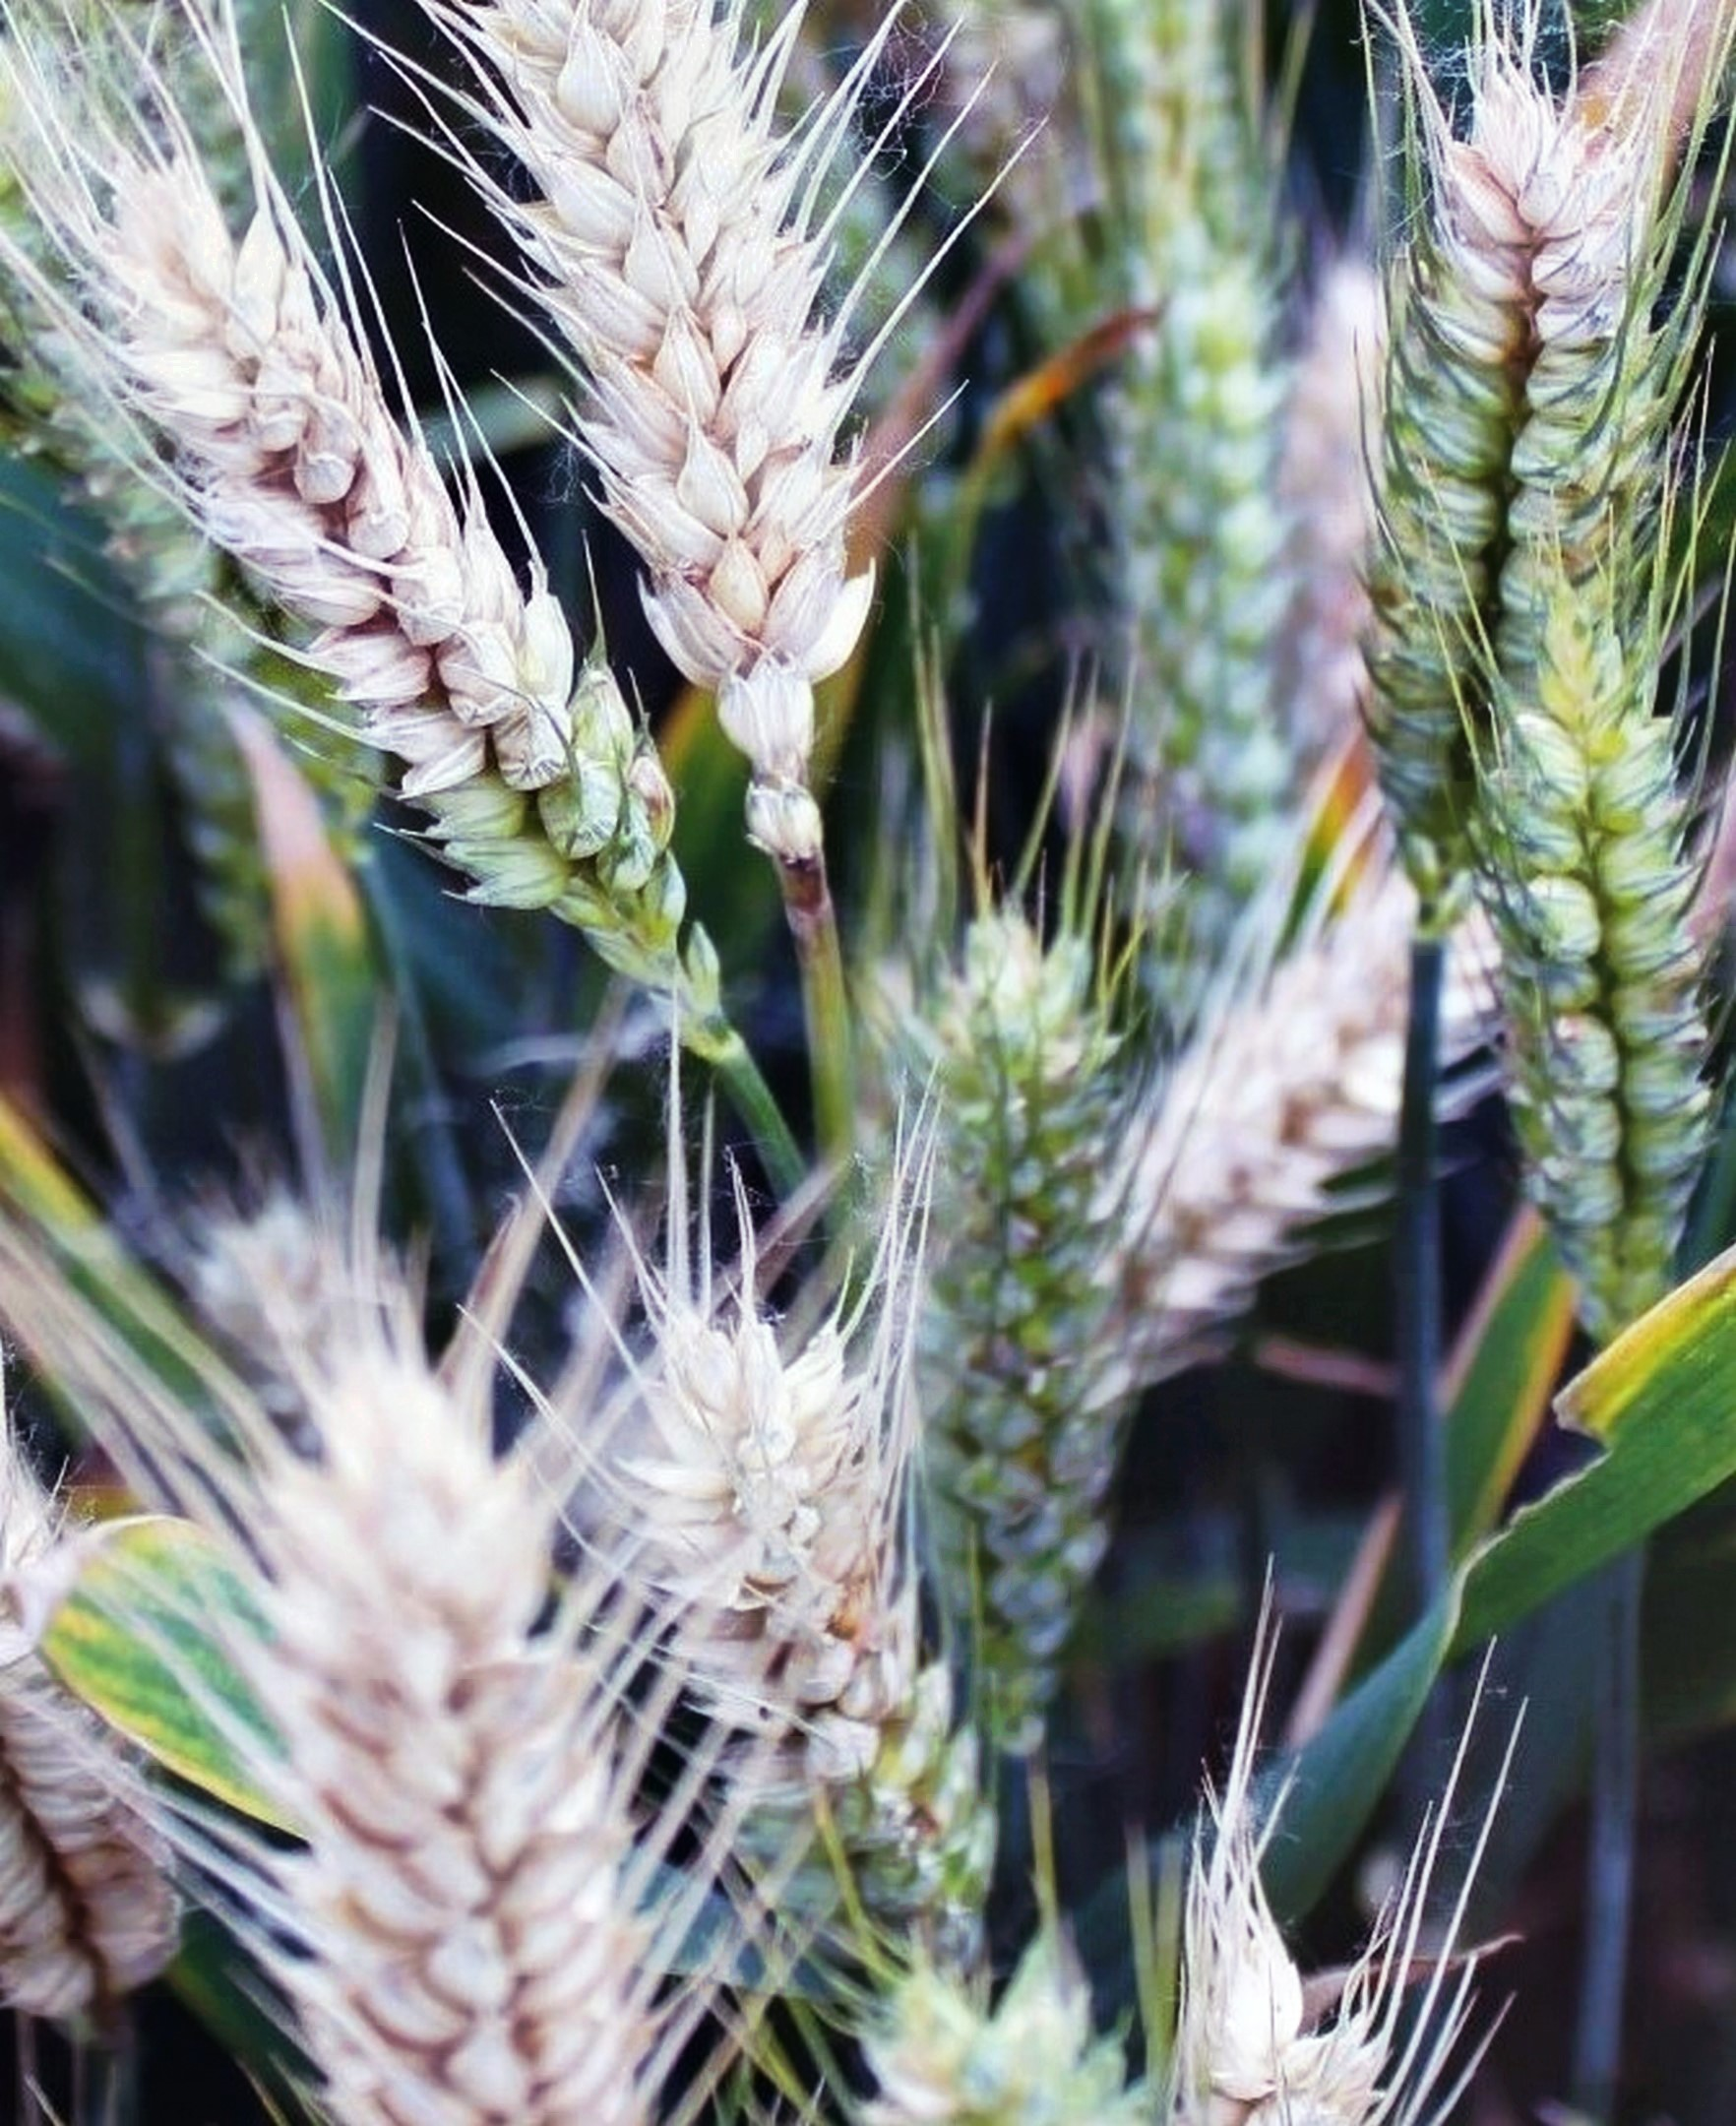Wheat scab: (1374, 48, 1724, 553), (307, 517, 692, 957)
